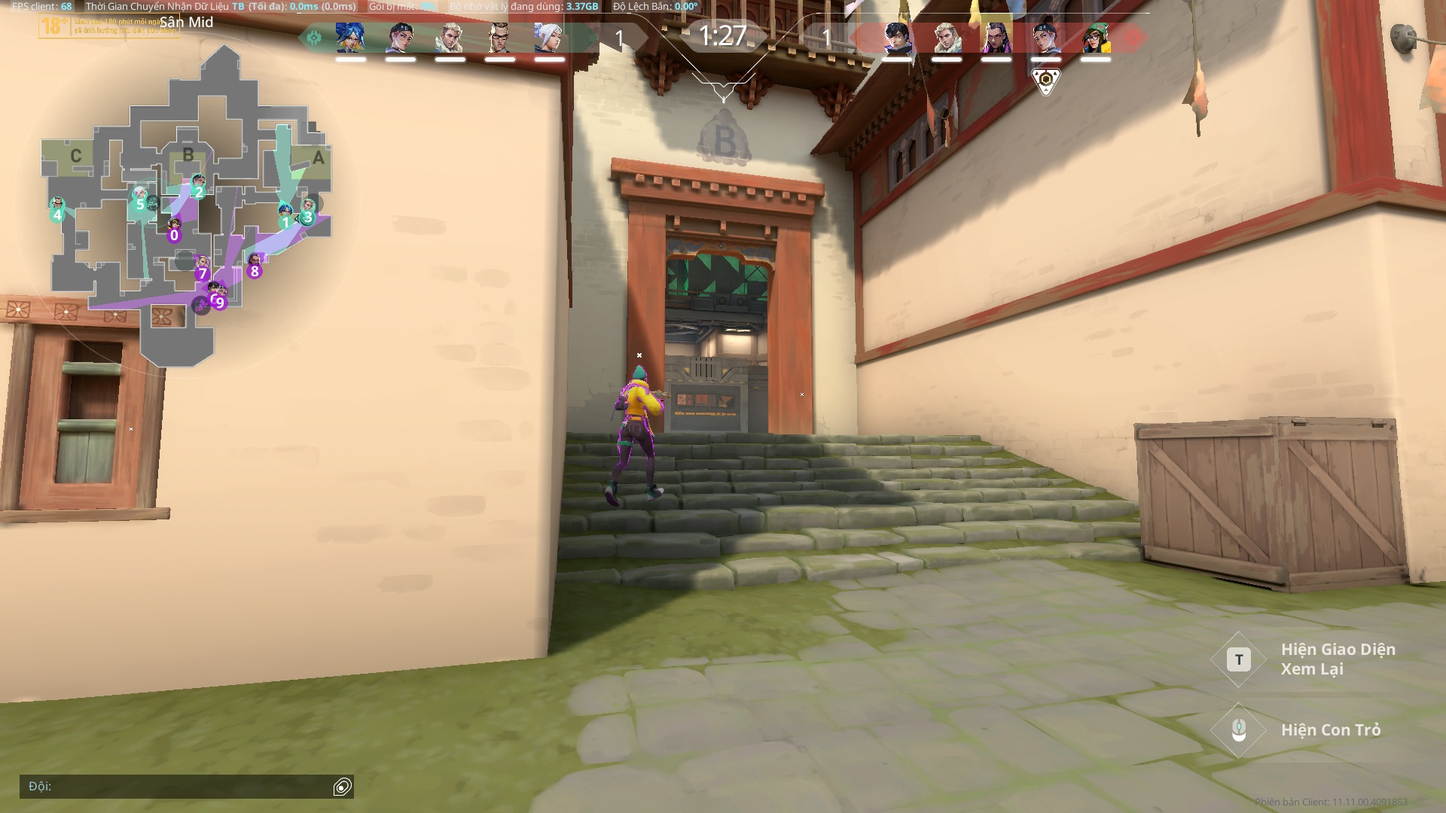body: (619, 380, 651, 414)
head: (631, 370, 647, 382)
